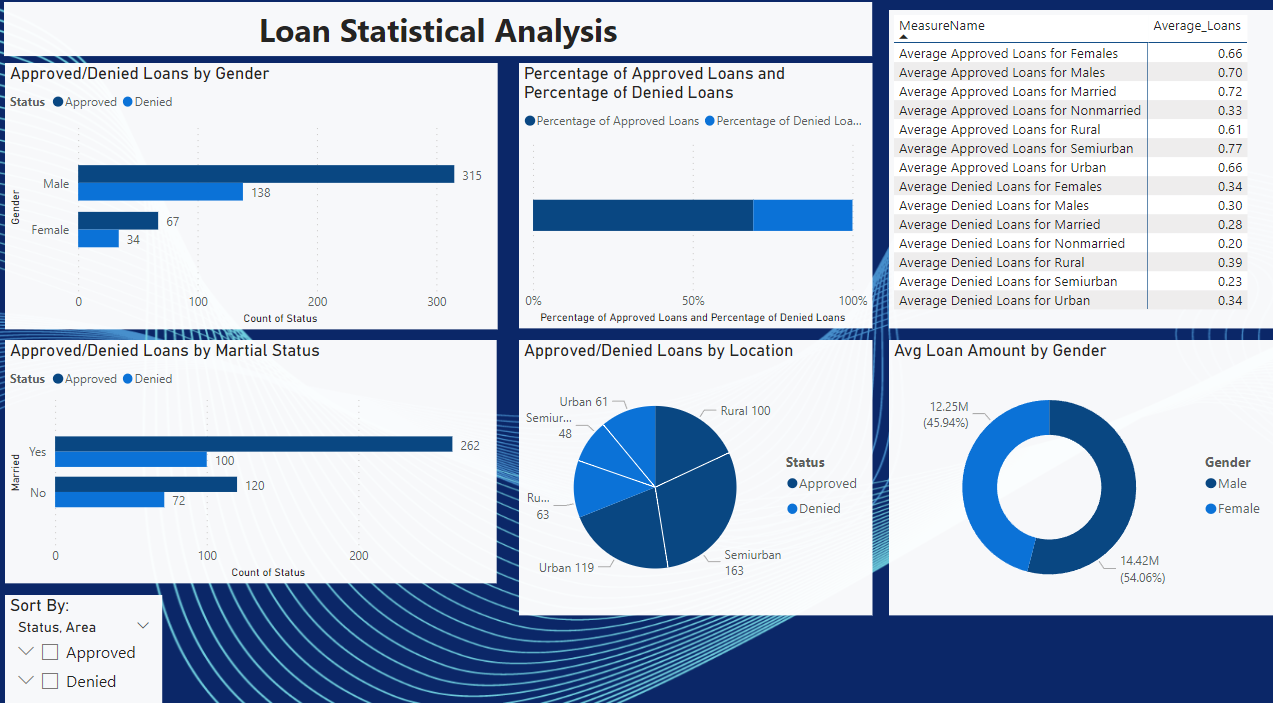

This screenshot's page, from the dashboard's own definition file:
{"tool":"powerbi","page":{"name":"Page 1","canvas":[1280,720],"ordinal":0},"visuals":[{"type":"textbox","box":[10,8,866.8,53.9],"z":0},{"type":"clusteredBarChart","title":"Approved/Denied Loans by Gender","fields":{"Category":["loan_train.Gender"],"Y":["CountNonNull(loan_train.Status)"],"Series":["loan_train.Status"]},"box":[10.7,69,491.6,266],"z":1000},{"type":"clusteredBarChart","title":"Approved/Denied Loans by Martial Status","fields":{"Category":["loan_train.Married"],"Y":["CountNonNull(loan_train.Status)"],"Series":["loan_train.Status"]},"box":[10.7,345.7,490.7,242.7],"z":2000},{"type":"slicer","title":"Sort By:","fields":{"Values":["loan_train.Status","loan_train.Area"]},"box":[11,600.2,156.8,108.8],"z":3000},{"type":"pieChart","title":"Approved/Denied Loans by Location","fields":{"Y":["CountNonNull(loan_train.Status)"],"Series":["loan_train.Area"],"Category":["loan_train.Status"]},"box":[524.3,345.5,352.5,274.6],"z":4000},{"type":"donutChart","title":"Avg Loan Amount by Gender","fields":{"Y":["Avg(loan_train.Loan_Amount)"],"Category":["loan_train.Gender"]},"box":[893.8,345.5,386.5,274.6],"z":5000},{"type":"hundredPercentStackedBarChart","fields":{"Y":["loan_train.Percentage of Approved Loans","loan_train.Percentage of Denied Loans"]},"box":[523.8,69.2,352.9,264.7],"z":6000},{"type":"pivotTable","fields":{"Rows":["Measure.MeasureName"],"Values":["Measure.Average_Loans"]},"box":[893.3,15.8,386.7,318.4],"z":8000}]}

Visuals, with their boxes in screenshot pixels (x1, y1, x2, y2), scaled from the page's 1280x720 canvas onto the 1273x703 screenshot:
textbox: pyautogui.locateOnScreen(10, 8, 872, 60)
"Approved/Denied Loans by Gender" clusteredBarChart: pyautogui.locateOnScreen(11, 67, 500, 327)
"Approved/Denied Loans by Martial Status" clusteredBarChart: pyautogui.locateOnScreen(11, 338, 499, 575)
"Sort By:" slicer: pyautogui.locateOnScreen(11, 586, 167, 692)
"Approved/Denied Loans by Location" pieChart: pyautogui.locateOnScreen(521, 337, 872, 605)
"Avg Loan Amount by Gender" donutChart: pyautogui.locateOnScreen(889, 337, 1272, 605)
hundredPercentStackedBarChart - loan_train.Percentage of Approved Loans x loan_train.Percentage of Denied Loans: pyautogui.locateOnScreen(521, 68, 872, 326)
pivotTable - Measure.MeasureName x Measure.Average_Loans: pyautogui.locateOnScreen(888, 15, 1272, 326)
